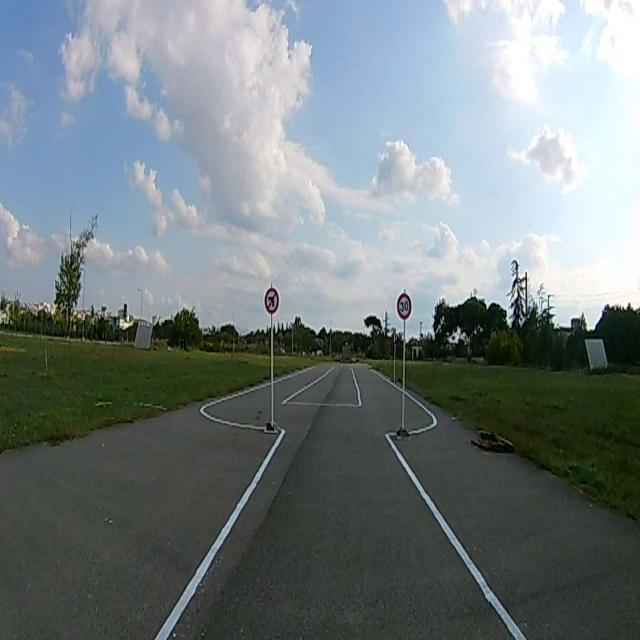30: (397, 292, 412, 318)
soladonulmez: (264, 288, 278, 314)
